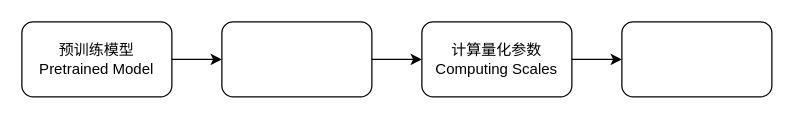
Some shapes in this 794 by 119 pixel diagram are drawn without their labels. The shapes that lost their labels are listed below. From the top down, each one's centre as x and y in pixels, then its label:
At [296,59]: "数据校准 Calibration".
At [696,59]: "输出量化模型 Quantization for Inference".
